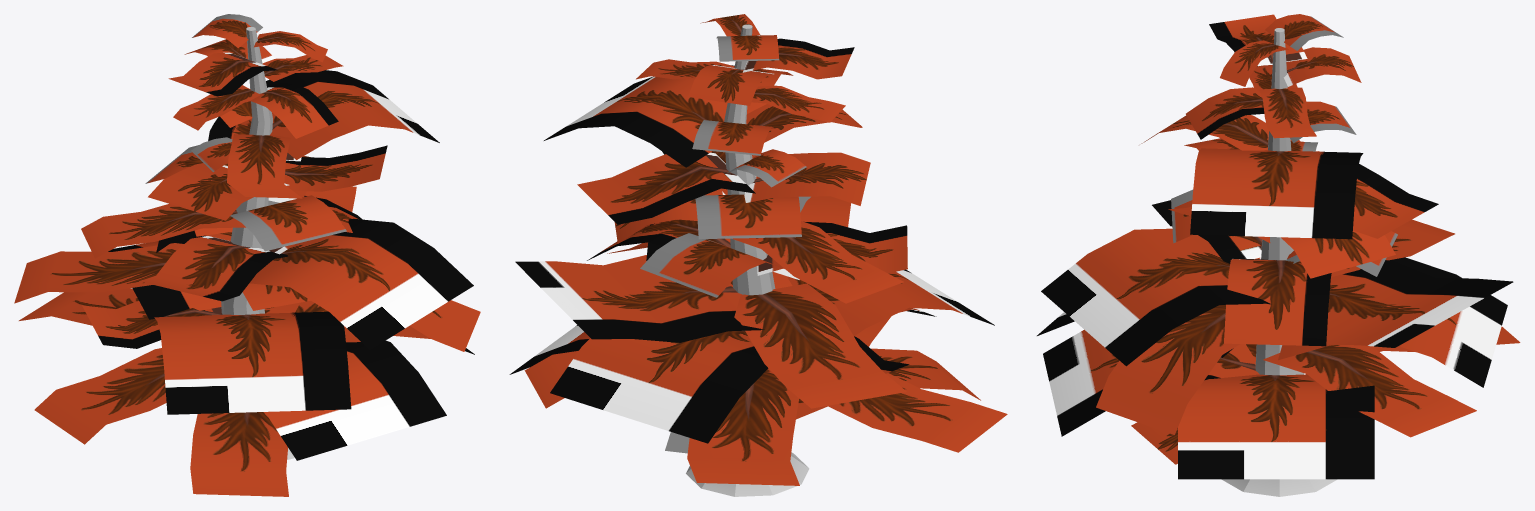
File: Tree-1.fbx
The picture shows the model from 3 angles, left to right: view 1: azimuth 30°, elevation 25°; view 2: azimuth 150°, elevation 25°; view 3: azimuth 270°, elevation 25°; orthographic projection. The views are drawn at different scales.
Visible parts, largest first — view 1: pPlane102; view 2: pPlane102; view 3: pPlane102.
Part boxes in pixels (box(x1,y1,x2,y2)): pPlane102: box(14, 14, 480, 496); pPlane102: box(509, 14, 1007, 496); pPlane102: box(1037, 14, 1520, 496).
Bounding box in the file's own units: 2.77 × 2.83 × 2.81.
